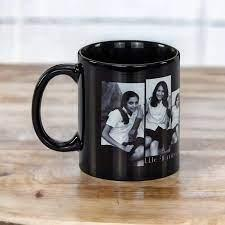Mug: (28, 36, 198, 191)
